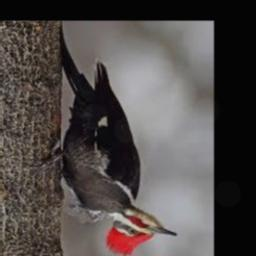Woodpecker: (30, 22, 176, 255)
